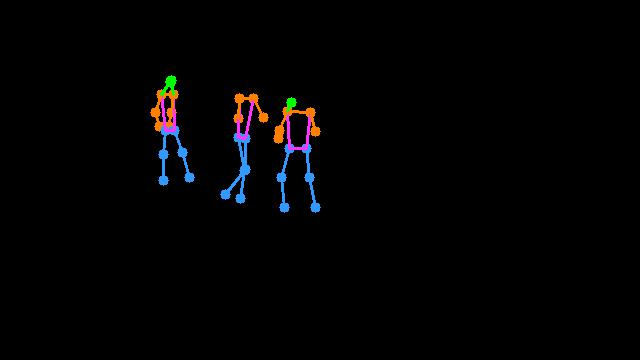normal: (134, 69, 207, 192), (269, 91, 336, 223)
